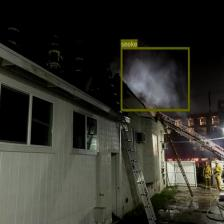smoke: (120, 47, 190, 111)
